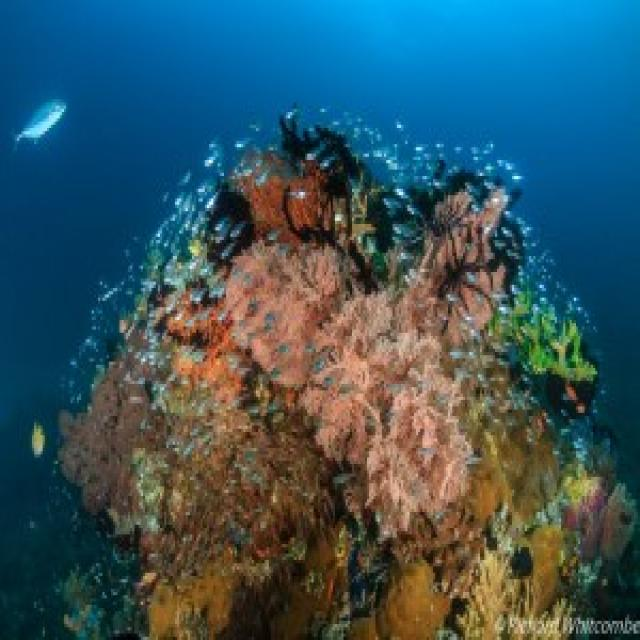Healthy: (223, 244, 470, 535), (138, 375, 334, 574), (466, 343, 558, 532), (61, 359, 148, 513), (421, 190, 507, 337), (494, 292, 596, 411), (470, 526, 560, 638), (566, 475, 635, 561), (381, 561, 449, 638)
